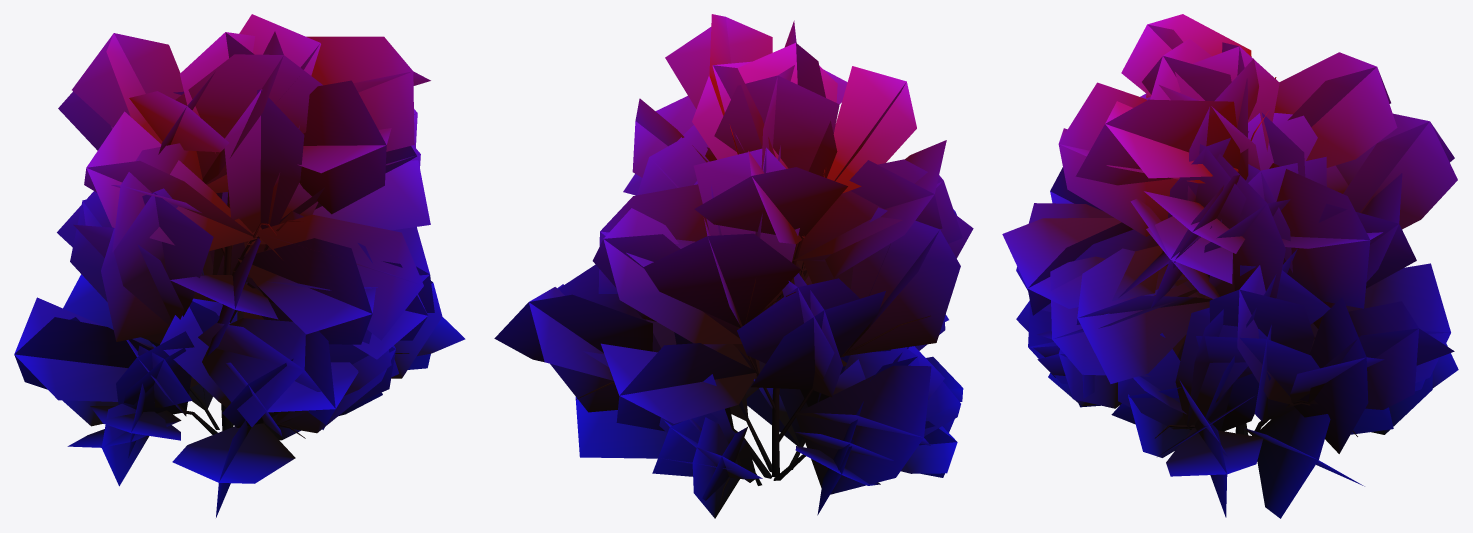
Rendered from Bush_A_07.fbx.
The picture shows the model from 3 angles, left to right: view 1: azimuth 30°, elevation 25°; view 2: azimuth 150°, elevation 25°; view 3: azimuth 270°, elevation 25°; orthographic projection.
Parts seen in each view (by area): view 1: Bush_A_07; view 2: Bush_A_07; view 3: Bush_A_07.
Part boxes in pixels (x1,y1,x2,y2): Bush_A_07: [14, 14, 465, 517]; Bush_A_07: [494, 14, 973, 518]; Bush_A_07: [1002, 14, 1458, 518].
Size of the model in its own units: 650 by 660 by 665.
